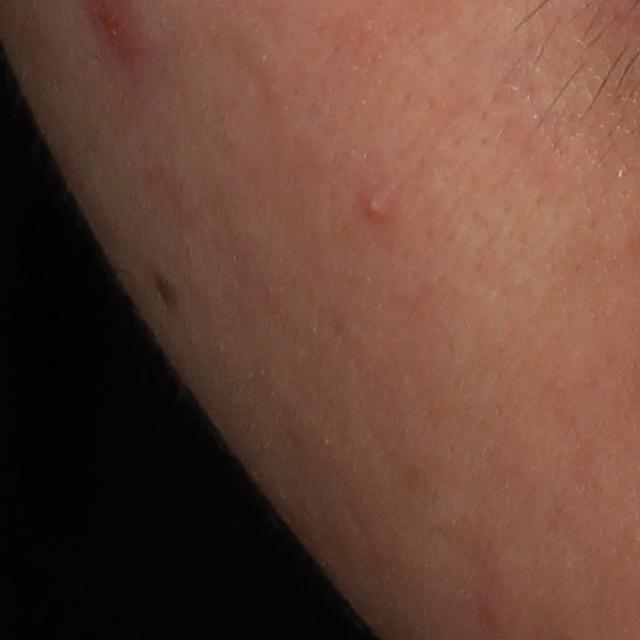nevus: (148, 268, 185, 321)
papule: (360, 193, 390, 218)
